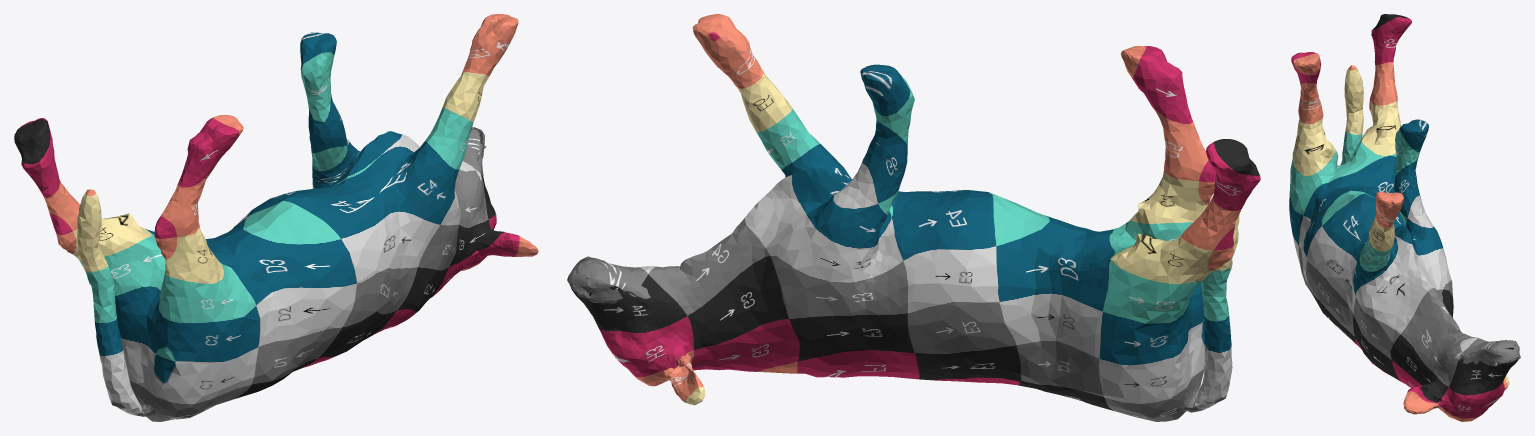
Rendered from wolf_01-cow_06.obj.
3 renders of one model, left to right at view 1: azimuth 30°, elevation 25°; view 2: azimuth 150°, elevation 25°; view 3: azimuth 270°, elevation 25°, orthographic. The views are drawn at different scales.
Visible parts, largest first — view 1: wolf_01-cow_06_export; view 2: wolf_01-cow_06_export; view 3: wolf_01-cow_06_export.
Part boxes in pixels (x1,y1,x2,y2): wolf_01-cow_06_export: [14, 14, 538, 421]; wolf_01-cow_06_export: [567, 14, 1260, 421]; wolf_01-cow_06_export: [1289, 14, 1520, 421].
Bounding box in the file's own units: 0.9906 × 0.5382 × 0.4724.
